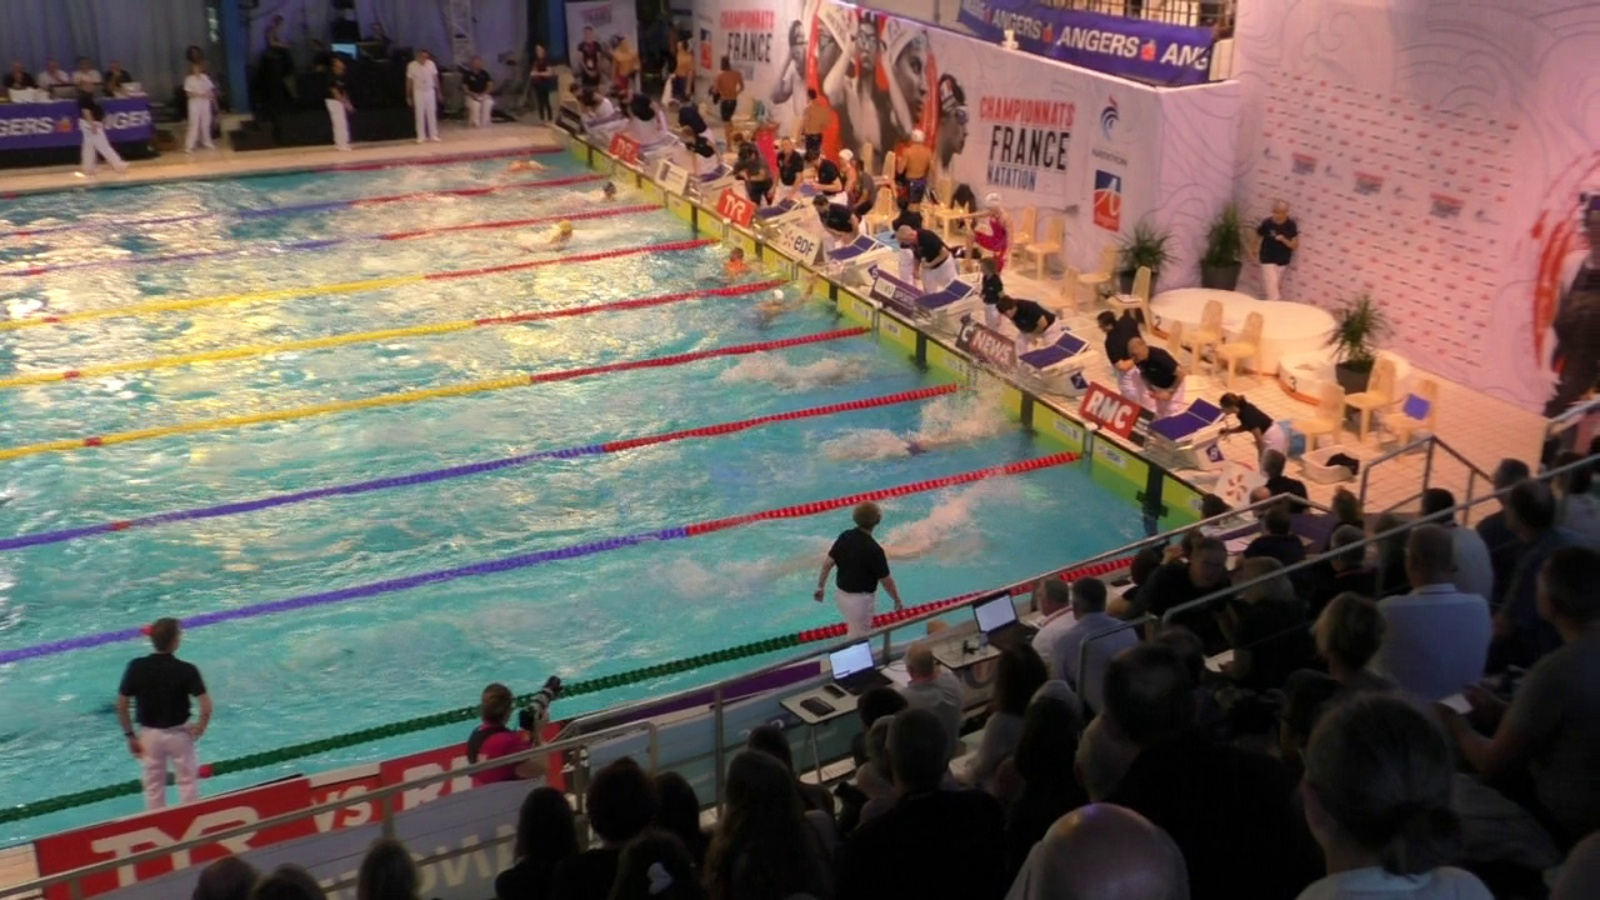swimmerwdd: (779, 519, 966, 575), (738, 271, 829, 338), (853, 419, 979, 462), (757, 355, 875, 395), (535, 181, 618, 220), (525, 220, 581, 255), (698, 248, 746, 288), (502, 147, 558, 175)
